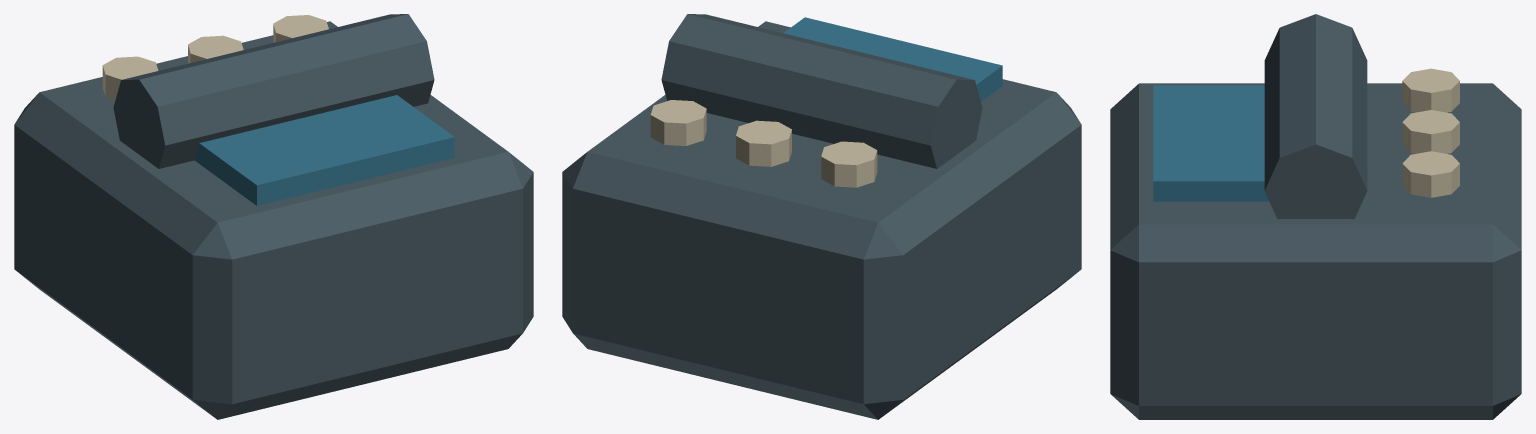
Rendered from set_desk_phone.glb.
The picture shows the model from 3 angles, left to right: view 1: azimuth 30°, elevation 25°; view 2: azimuth 150°, elevation 25°; view 3: azimuth 270°, elevation 25°; orthographic projection.
Visible parts, largest first — view 1: set_desk_phone; view 2: set_desk_phone; view 3: set_desk_phone.
Part boxes in pixels (x1,y1,x2,y2): set_desk_phone: (14,14,533,419); set_desk_phone: (562,14,1081,419); set_desk_phone: (1110,14,1521,419).
Bounding box in the file's own units: 0.19 × 0.145 × 0.2.
